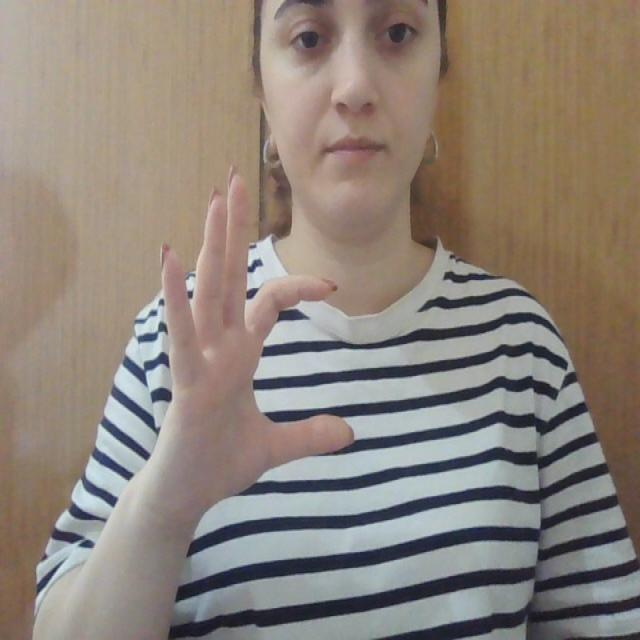Tuvalet: (115, 151, 362, 512)
